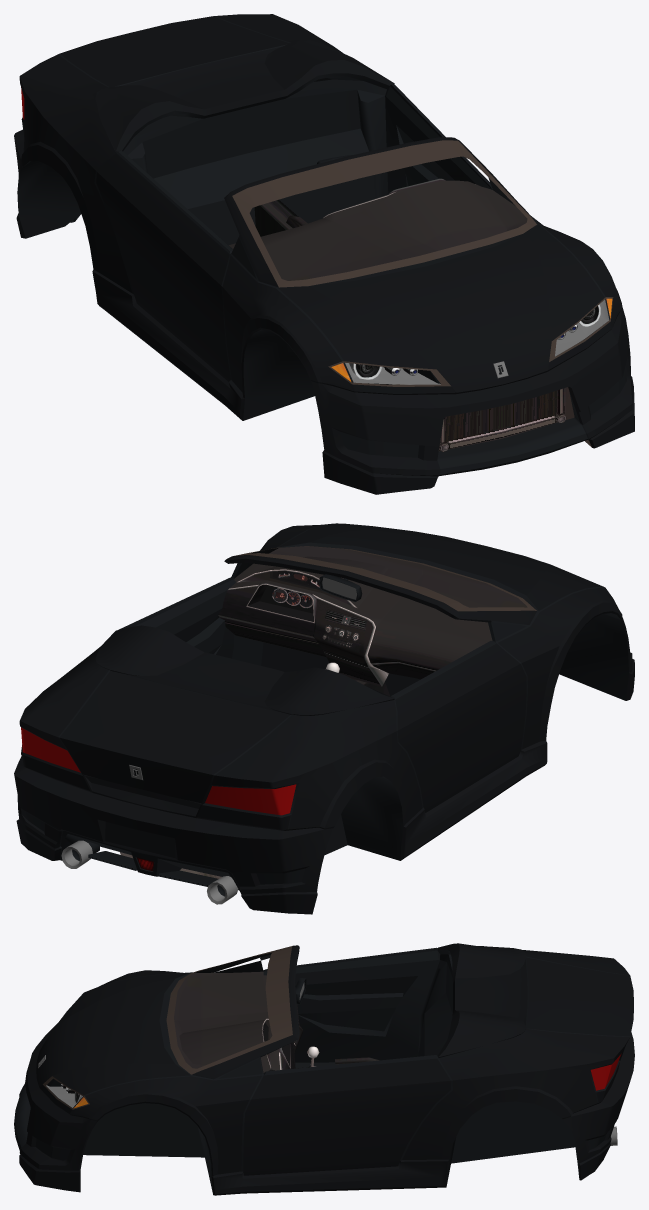
The model's file is black_car.glb.
3 renders of one model, top to bottom at view 1: azimuth 30°, elevation 25°; view 2: azimuth 150°, elevation 25°; view 3: azimuth 270°, elevation 25°, orthographic. The views are drawn at different scales.
Visible parts, largest first — view 1: node_id49, node_id39, node_id57, node_id45, node_id55, node_id33, node_id41; view 2: node_id49, node_id39, node_id57, node_id31, node_id45, node_id33; view 3: node_id49, node_id39, node_id57, node_id45, node_id33, node_id31.
Boxes of the visible parts, bbox=[...] form: node_id49: bbox=[14, 14, 634, 494]; node_id39: bbox=[17, 16, 626, 475]; node_id57: bbox=[228, 178, 527, 280]; node_id45: bbox=[232, 140, 613, 386]; node_id55: bbox=[438, 387, 574, 451]; node_id33: bbox=[345, 299, 609, 384]; node_id41: bbox=[353, 304, 600, 379]; node_id49: bbox=[14, 523, 634, 914]; node_id39: bbox=[21, 523, 628, 896]; node_id57: bbox=[218, 546, 527, 696]; node_id31: bbox=[21, 727, 296, 815]; node_id45: bbox=[234, 546, 536, 611]; node_id33: bbox=[61, 577, 356, 904]; node_id49: bbox=[19, 943, 634, 1195]; node_id39: bbox=[14, 947, 630, 1192]; node_id57: bbox=[174, 971, 379, 1072]; node_id45: bbox=[43, 946, 292, 1109]; node_id33: bbox=[38, 982, 617, 1145]; node_id31: bbox=[590, 1053, 621, 1090].
Bounding box in the file's own units: 0.512 × 0.2972 × 1.08.
14 materials, 14 textured.
